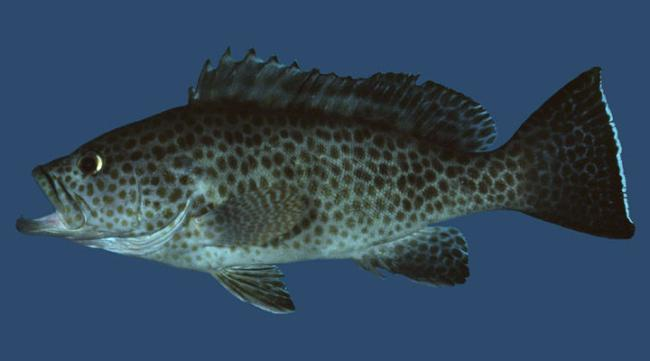fish: (16, 46, 635, 314)
